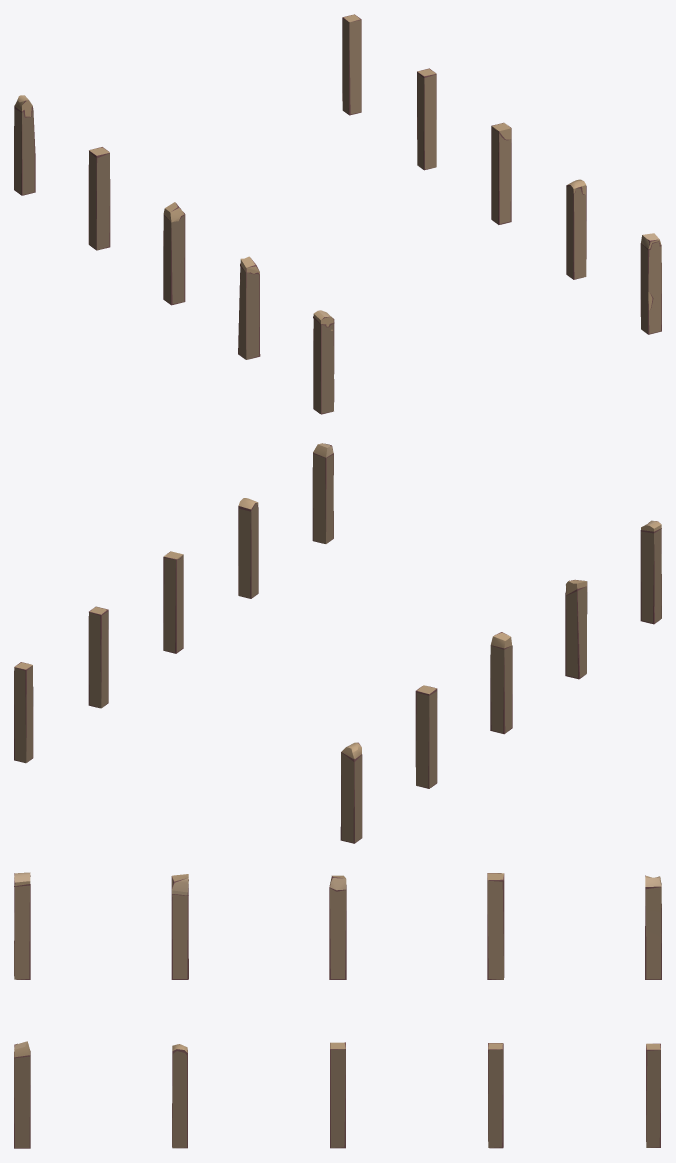
File: Mesh_Adventure_Forest_Bridge_02_SM.fbx
3 views of the same model, one above another, from view 1: azimuth 30°, elevation 25°; view 2: azimuth 150°, elevation 25°; view 3: azimuth 270°, elevation 25° (orthographic). The views are drawn at different scales.
Parts seen in each view (by area): view 1: Mesh_Adventure_Forest_Bridge_02; view 2: Mesh_Adventure_Forest_Bridge_02; view 3: Mesh_Adventure_Forest_Bridge_02.
Boxes of the visible parts, box(x1,y1,x2,y2) form: Mesh_Adventure_Forest_Bridge_02: box(14, 14, 661, 414); Mesh_Adventure_Forest_Bridge_02: box(14, 443, 661, 843); Mesh_Adventure_Forest_Bridge_02: box(14, 872, 661, 1148).
Size of the model in its own units: 182 by 49.67 by 284.
